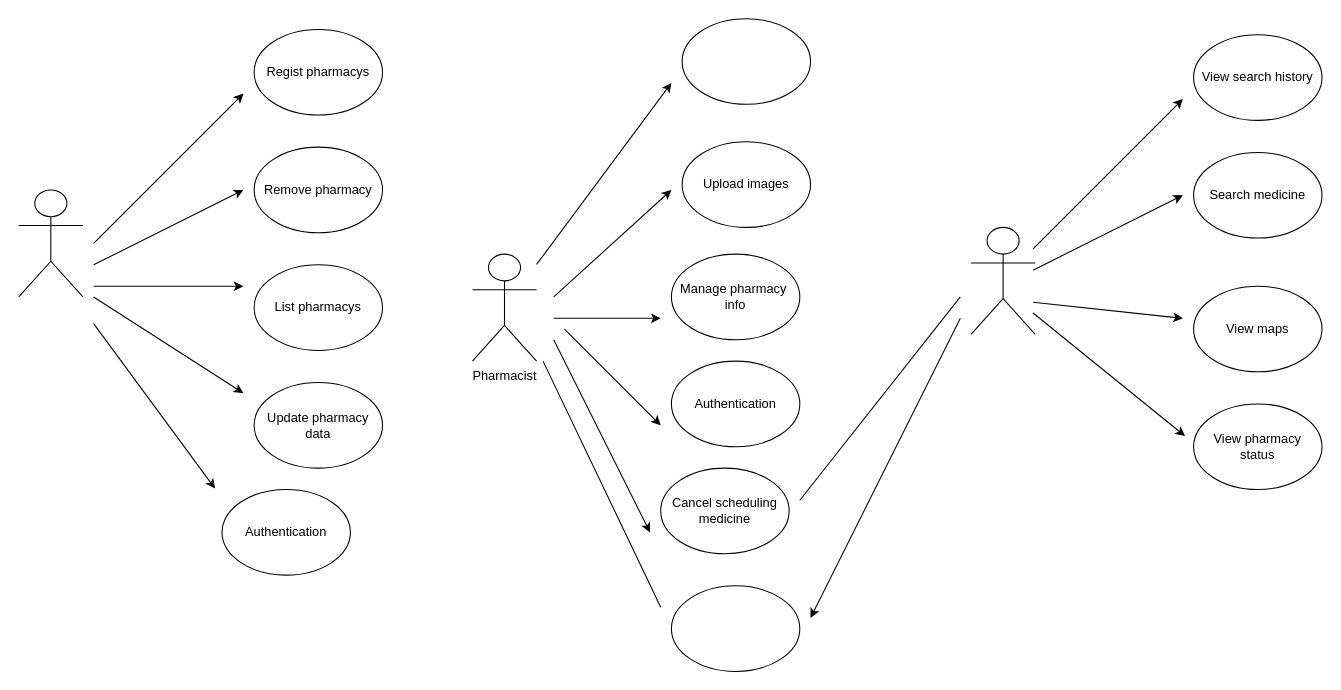
Image size: 1341x690. Some labels were removed from this diagram. Each missing label, with the centre of its shape:
Admin: point 50,243
Manage stock: point 746,61
Scheduling medicines: point 735,628
User: point 1002,280
